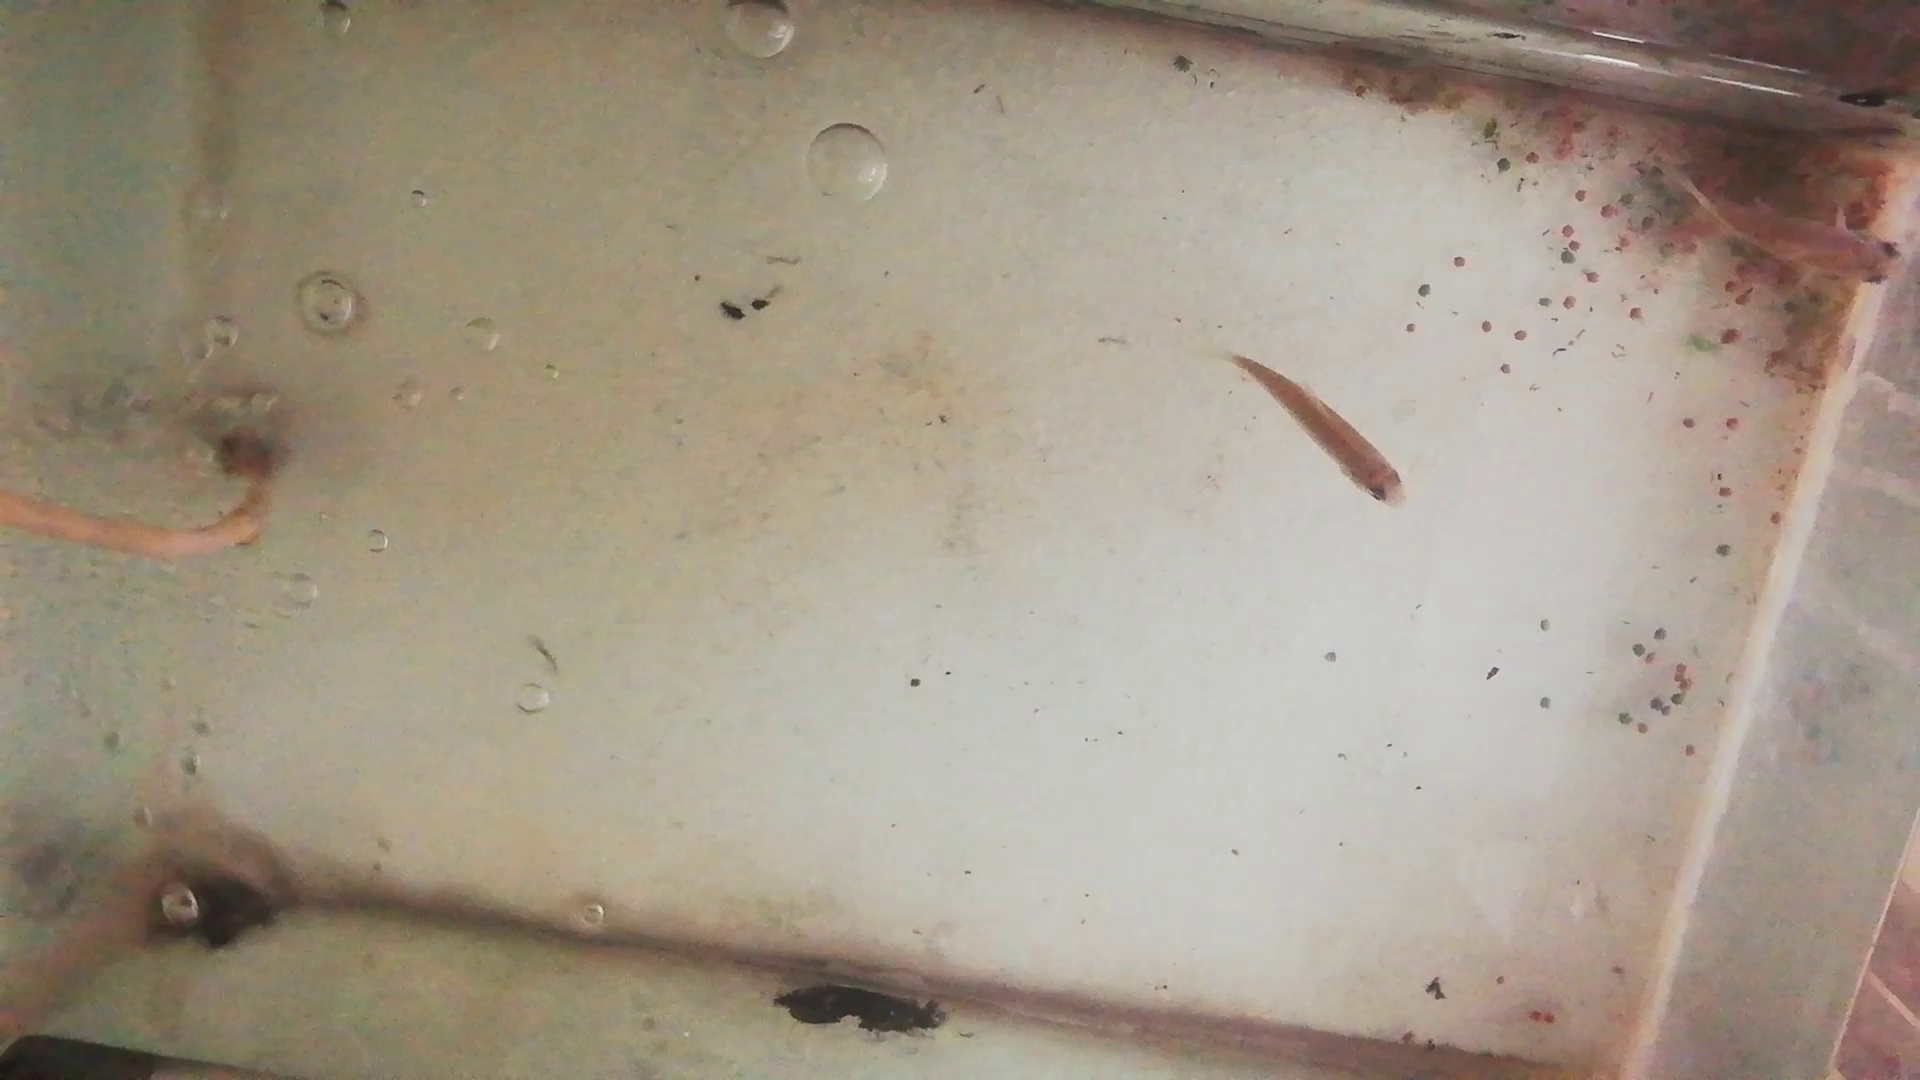fish: (1230, 352, 1408, 506), (1701, 200, 1907, 297)
